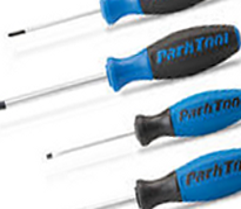Screwdriver: (46, 97, 241, 163)
